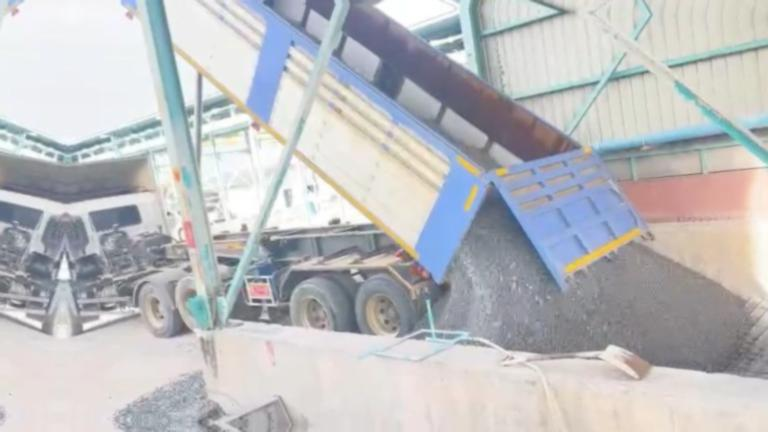gravel: (434, 195, 748, 371), (112, 371, 222, 421), (455, 138, 496, 168)
